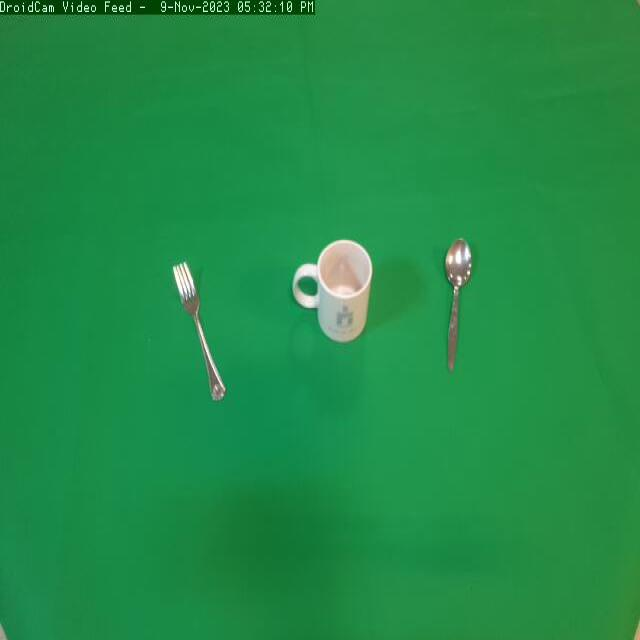cup: (282, 230, 383, 366)
fork: (166, 250, 234, 413)
spoon: (432, 231, 484, 384)
